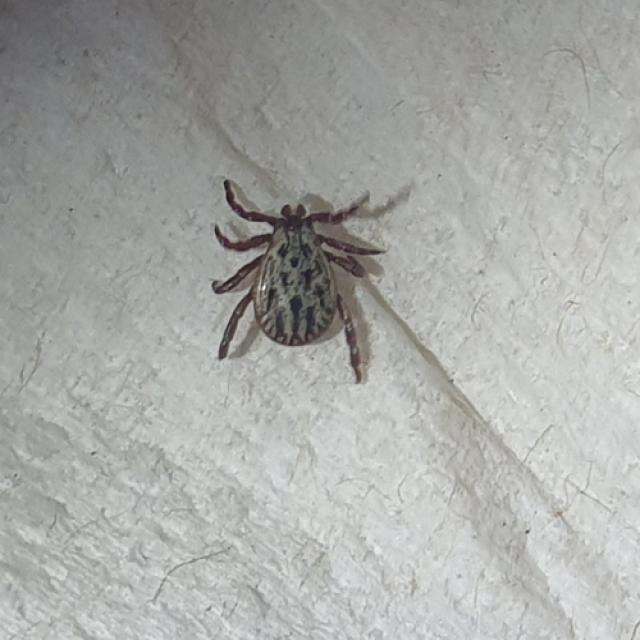Dermacentor Reticulatus-M: (211, 180, 384, 382)
